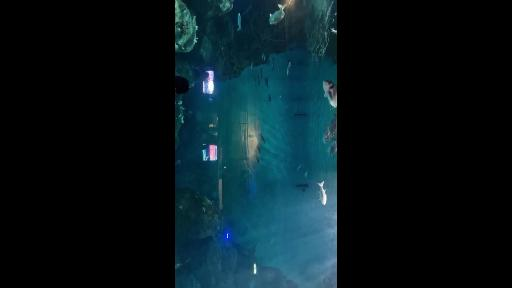Fish: (323, 80, 337, 107), (270, 4, 287, 24), (318, 182, 326, 205), (331, 114, 337, 135), (242, 3, 252, 15), (324, 125, 330, 143), (330, 140, 337, 155), (238, 13, 241, 30), (260, 134, 265, 143), (254, 154, 259, 163), (287, 61, 290, 75), (296, 184, 310, 187), (331, 28, 337, 34), (175, 264, 182, 269), (256, 145, 260, 153), (265, 78, 268, 87), (297, 164, 301, 170), (175, 160, 181, 164), (272, 58, 274, 70), (251, 62, 253, 70), (254, 77, 256, 84), (268, 58, 270, 65), (305, 171, 307, 177), (258, 75, 259, 85), (262, 54, 264, 59), (264, 56, 266, 61), (261, 69, 262, 78), (269, 95, 270, 103)
